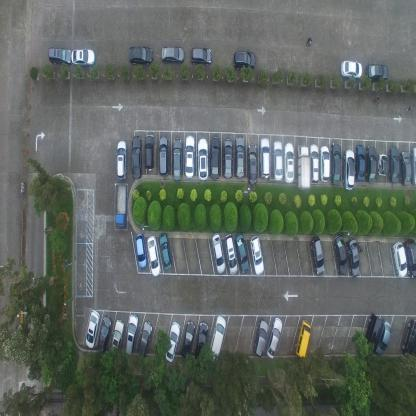car: (363, 313, 384, 357), (208, 314, 226, 364), (266, 315, 283, 360), (249, 232, 265, 276), (294, 318, 311, 359), (252, 318, 269, 359), (374, 318, 392, 356), (234, 232, 250, 274), (210, 233, 226, 275), (164, 321, 180, 362), (146, 235, 161, 278), (309, 235, 325, 275), (85, 308, 100, 350), (109, 318, 124, 359), (392, 240, 408, 278), (401, 318, 416, 358), (97, 314, 112, 354), (334, 234, 348, 276), (181, 320, 196, 359), (137, 320, 153, 356), (225, 232, 238, 276), (125, 312, 138, 356), (115, 182, 127, 229), (194, 321, 208, 361), (298, 142, 310, 188), (128, 45, 154, 66), (346, 238, 360, 277), (158, 232, 172, 271), (131, 134, 143, 179), (233, 49, 256, 72), (197, 138, 209, 182), (116, 138, 128, 180), (404, 236, 416, 278), (47, 46, 72, 66), (210, 136, 221, 181), (340, 58, 362, 80), (72, 46, 96, 66), (158, 135, 169, 178), (331, 140, 341, 186), (365, 62, 389, 81), (135, 232, 147, 270), (344, 149, 355, 190), (172, 138, 182, 182), (185, 134, 195, 178), (235, 136, 245, 180), (309, 141, 319, 185), (160, 46, 184, 64), (400, 150, 412, 186), (247, 143, 257, 186), (273, 139, 283, 182), (260, 136, 270, 178), (190, 46, 212, 65), (144, 133, 155, 171), (319, 144, 330, 182), (223, 138, 233, 179), (284, 142, 294, 183), (389, 146, 400, 183), (355, 144, 365, 182), (366, 146, 376, 182), (377, 152, 389, 178), (410, 146, 416, 189)
